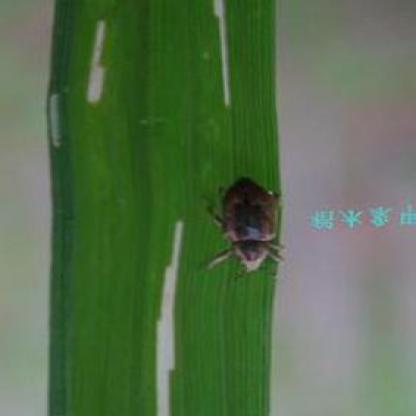rice-bug: (200, 174, 295, 276)
